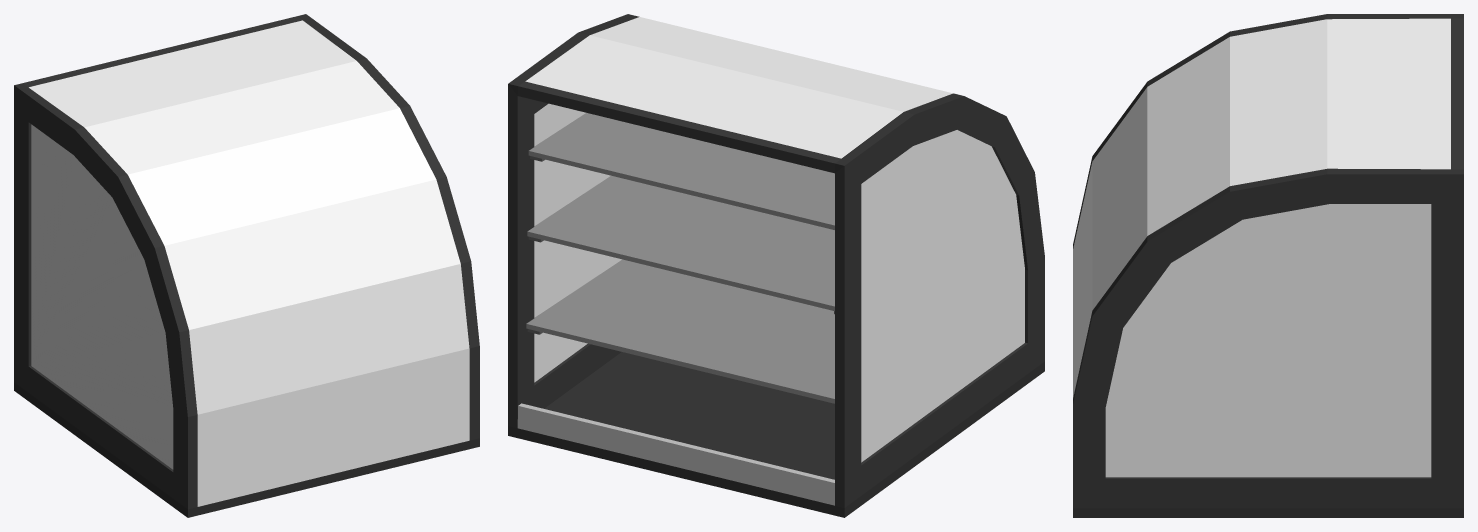
Rendered from Cookie Rack.fbx.
The picture shows the model from 3 angles, left to right: view 1: azimuth 30°, elevation 25°; view 2: azimuth 150°, elevation 25°; view 3: azimuth 270°, elevation 25°; orthographic projection. The views are drawn at different scales.
Visible parts, largest first — view 1: Cookie Rack; view 2: Cookie Rack; view 3: Cookie Rack.
Part boxes in pixels (<box>): Cookie Rack: <box>14,14,479,517</box>; Cookie Rack: <box>508,14,1044,517</box>; Cookie Rack: <box>1073,14,1463,517</box>.
Bounding box in the file's own units: 61.55 × 61.55 × 63.44.
2 materials, 1 textured.
